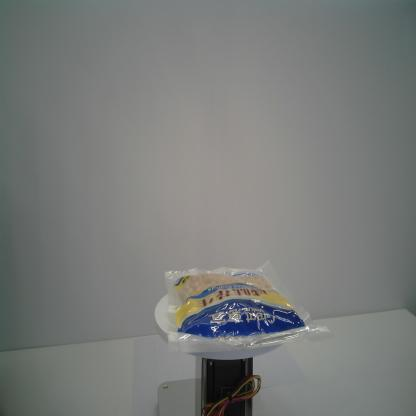Dried Fruit: (163, 260, 337, 359)
